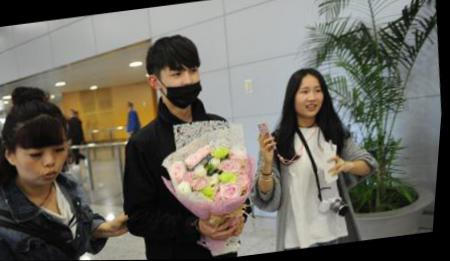NONE: (17, 133, 74, 190), (295, 81, 329, 120)
WRONG: (158, 61, 207, 112)
